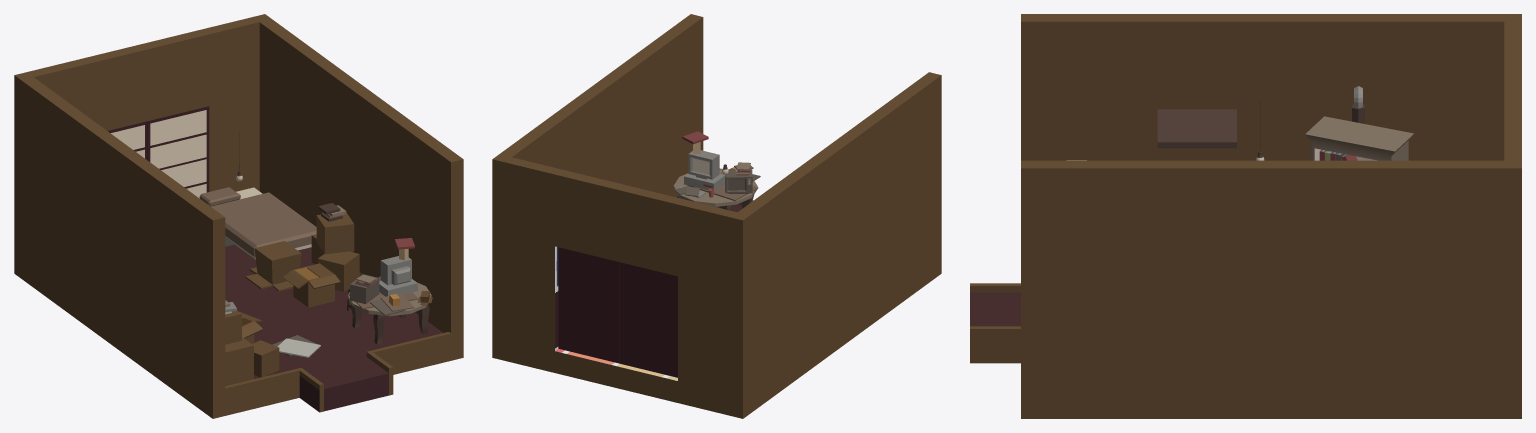
The model's file is apt_0_inside.fbx.
3 views of the same model, side by side, from view 1: azimuth 30°, elevation 25°; view 2: azimuth 150°, elevation 25°; view 3: azimuth 270°, elevation 25° (orthographic). The views are drawn at different scales.
Visible parts, largest first — view 1: polySurface1303, polySurface71, polySurface1298, polySurface10, polySurface81, polySurface24, polySurface27, polySurface51, polySurface87, polySurface97, polySurface47, polySurface61 (+2 smaller); view 2: polySurface1303, polySurface1298, polySurface97, polySurface87, polySurface47, polySurface90; view 3: polySurface1303, polySurface179, polySurface181, polySurface71.
Part boxes in pixels (box(x1,y1,x2,y2)): polySurface1303: box(14, 14, 463, 418); polySurface71: box(225, 245, 442, 412); polySurface1298: box(108, 106, 209, 198); polySurface10: box(199, 187, 316, 259); polySurface81: box(311, 203, 359, 291); polySurface24: box(225, 300, 279, 385); polySurface27: box(245, 241, 301, 291); polySurface51: box(283, 263, 340, 307); polySurface87: box(347, 283, 431, 344); polySurface97: box(379, 256, 417, 296); polySurface47: box(348, 276, 432, 315); polySurface61: box(272, 335, 320, 357); polySurface1303: box(492, 14, 941, 418); polySurface1298: box(558, 247, 677, 377); polySurface97: box(684, 150, 724, 190); polySurface87: box(673, 168, 757, 210); polySurface47: box(674, 167, 760, 200); polySurface90: box(725, 169, 752, 193); polySurface1303: box(970, 14, 1521, 418); polySurface179: box(1305, 116, 1413, 160); polySurface181: box(1157, 109, 1236, 148); polySurface71: box(970, 292, 1020, 326).
Size of the model in its own units: 34.27 by 25.93 by 51.75.
Materials: 22 (22 with a texture image).
